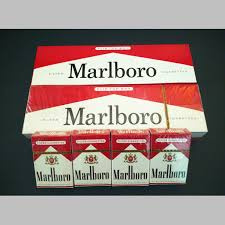marlboro: (111, 133, 149, 187), (150, 134, 189, 184), (73, 134, 109, 186), (36, 136, 71, 189)
